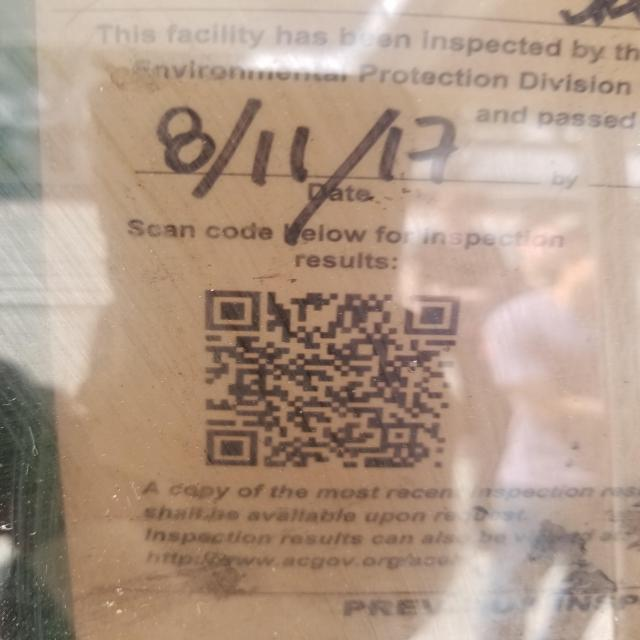QRCode: (184, 273, 473, 482)
